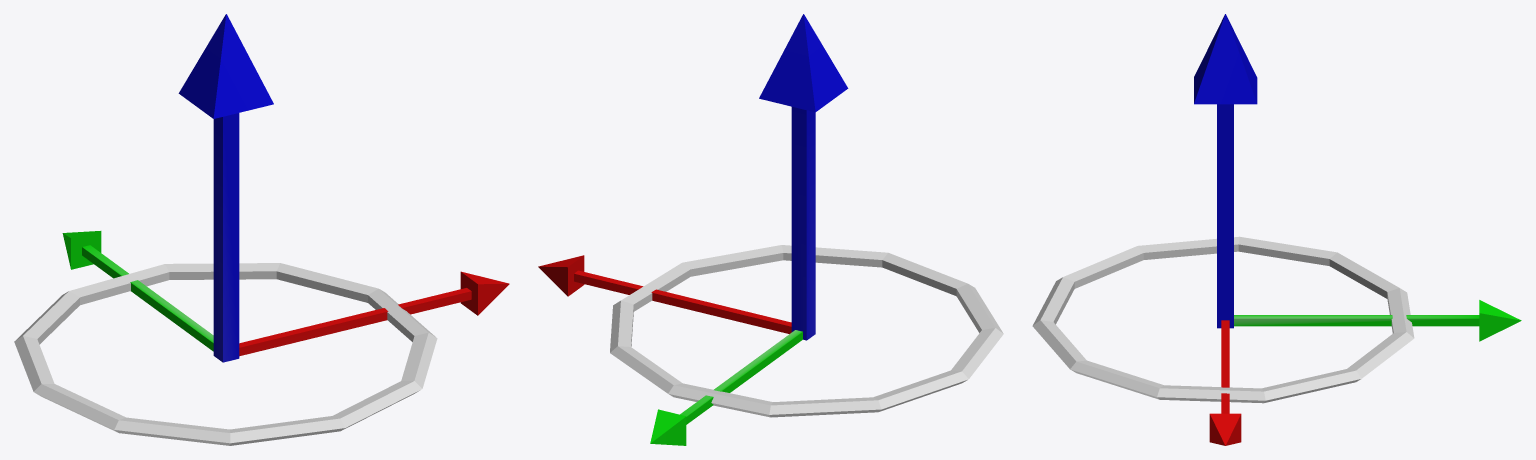
File: tcp-arrows.dae
The picture shows the model from 3 angles, left to right: view 1: azimuth 30°, elevation 25°; view 2: azimuth 150°, elevation 25°; view 3: azimuth 270°, elevation 25°; orthographic projection. The views are drawn at different scales.
Visible parts, largest first — view 1: Cube.002; view 2: Cube.002; view 3: Cube.002.
Boxes of the visible parts, bbox=[...] form: Cube.002: bbox=[14, 14, 509, 445]; Cube.002: bbox=[538, 14, 1003, 445]; Cube.002: bbox=[1032, 14, 1521, 445].
Bounding box in the file's own units: 146 × 146 × 105.
